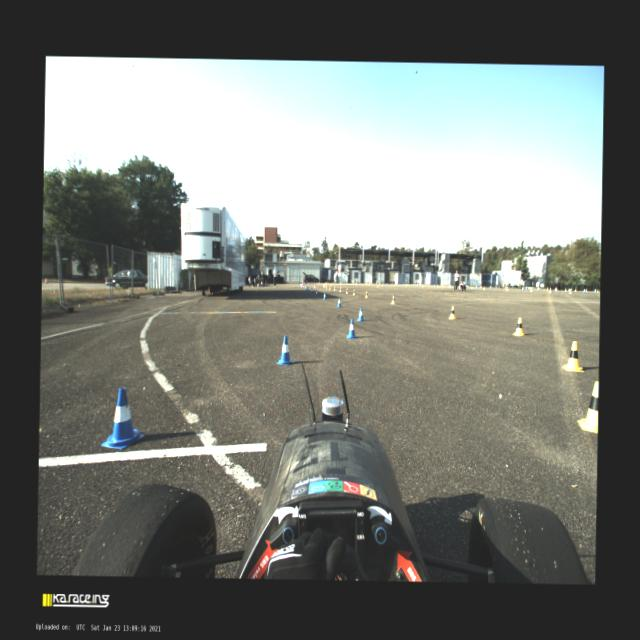blue_cone: (100, 386, 146, 449), (276, 335, 294, 365), (346, 318, 356, 338), (356, 306, 364, 321), (336, 297, 342, 307), (322, 292, 327, 300), (314, 290, 318, 296), (310, 288, 312, 294), (304, 284, 306, 290), (306, 286, 308, 290), (302, 284, 304, 288), (594, 288, 596, 292), (583, 288, 585, 292), (568, 288, 570, 292), (554, 286, 556, 290), (522, 286, 524, 290), (489, 285, 491, 289), (475, 284, 477, 288), (465, 284, 467, 288), (416, 282, 418, 286), (570, 288, 572, 291), (537, 287, 539, 290), (525, 286, 527, 289), (504, 286, 506, 289), (313, 282, 315, 284), (448, 284, 450, 286), (434, 284, 436, 286), (300, 283, 301, 286), (549, 287, 550, 290), (529, 286, 530, 289), (402, 283, 403, 285), (385, 282, 386, 284), (308, 282, 308, 286), (528, 286, 528, 288)
large_orange_cone: (300, 282, 302, 288)
yellow_cone: (577, 380, 598, 432), (562, 341, 585, 372), (512, 318, 524, 336), (448, 306, 456, 319), (390, 295, 396, 304), (364, 291, 368, 298), (338, 286, 342, 292), (352, 288, 355, 294), (345, 288, 348, 294), (568, 290, 572, 294), (333, 284, 335, 290), (328, 285, 331, 289), (505, 286, 508, 290), (325, 284, 327, 288), (596, 288, 598, 292), (585, 288, 587, 292), (574, 288, 576, 292), (564, 288, 566, 292), (556, 286, 558, 290), (549, 288, 551, 292), (546, 286, 548, 290), (530, 288, 532, 292), (482, 286, 484, 290), (436, 284, 438, 288), (422, 283, 424, 287), (404, 283, 406, 286), (324, 283, 325, 287), (323, 283, 324, 287), (368, 282, 369, 286), (330, 282, 331, 285), (449, 285, 450, 288), (341, 282, 342, 285), (394, 282, 394, 286), (382, 282, 382, 286), (356, 282, 356, 285)
